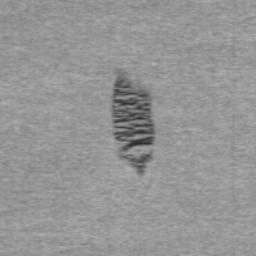Secondary rust skin: (110, 74, 156, 175)
